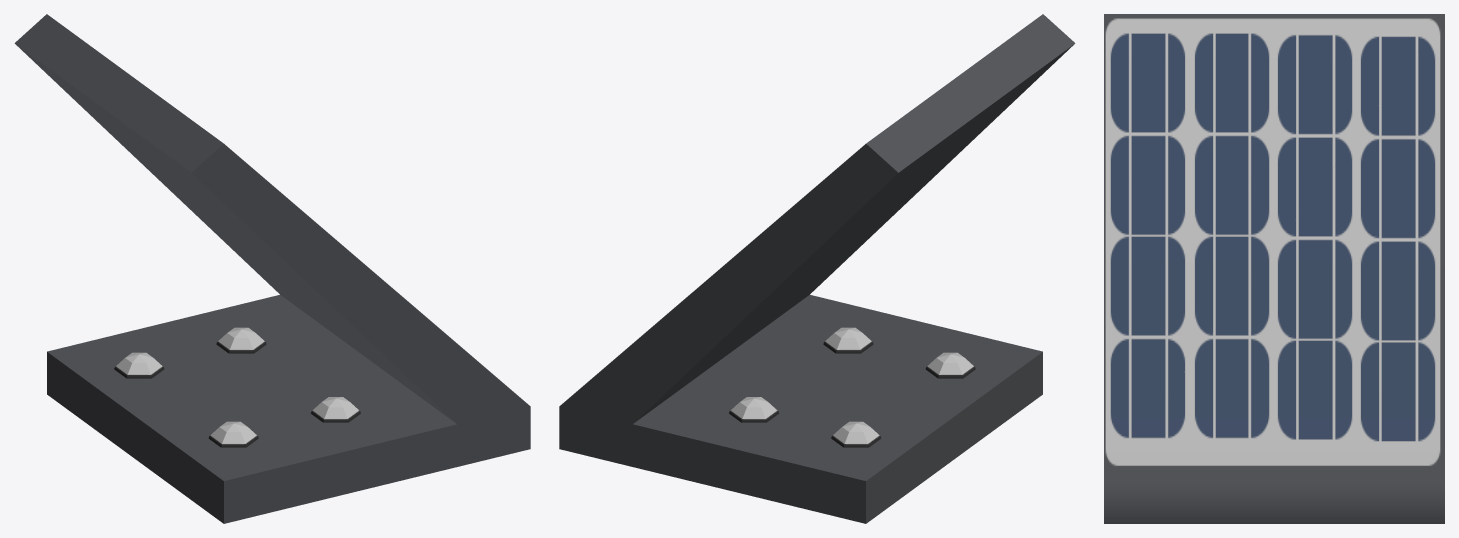
File: Solar battery.glb
3 views of the same model, side by side, from view 1: azimuth 30°, elevation 25°; view 2: azimuth 150°, elevation 25°; view 3: azimuth 270°, elevation 25° (orthographic). The views are drawn at different scales.
Parts seen in each view (by area): view 1: Solar_battery; view 2: Solar_battery; view 3: Solar_battery.
Boxes of the visible parts, bbox=[...] form: Solar_battery: bbox=[14, 14, 530, 523]; Solar_battery: bbox=[559, 14, 1075, 523]; Solar_battery: bbox=[1104, 14, 1444, 523].
Bounding box in the file's own units: 597 × 640 × 540.
Materials: 1 (1 with a texture image).
